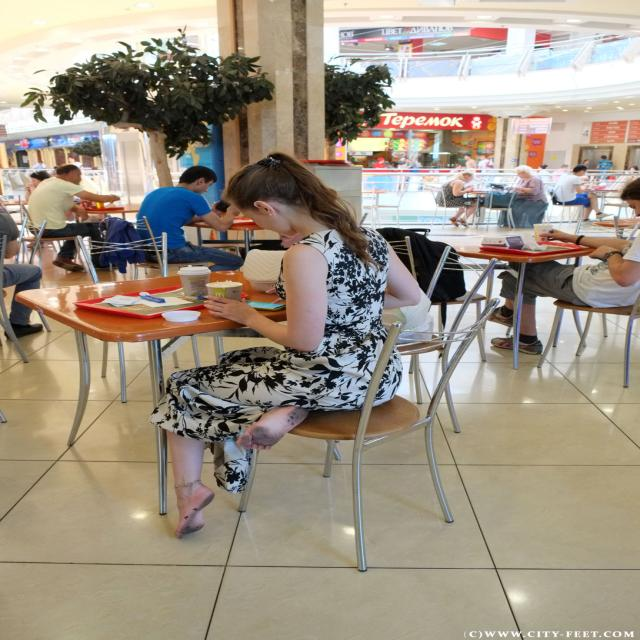Barefoots: (236, 404, 309, 450), (174, 485, 214, 539)
